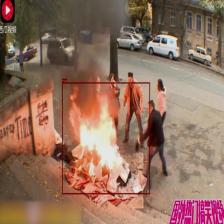fire: (62, 82, 150, 194)
